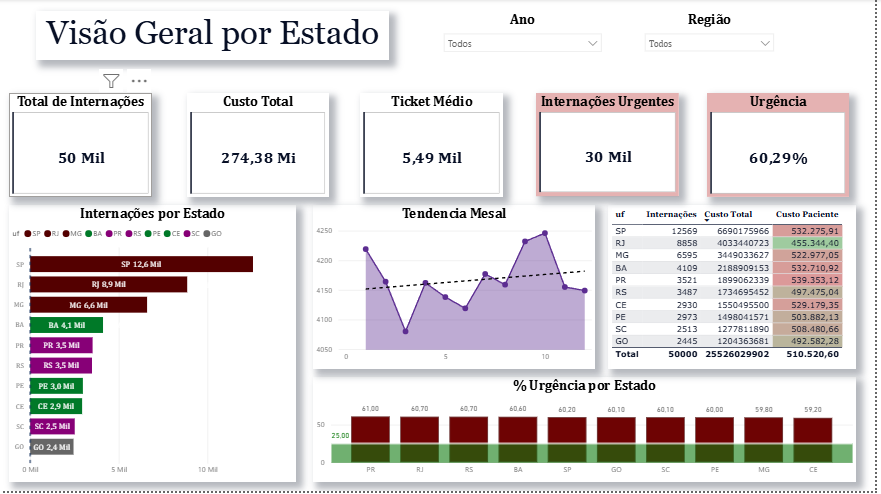

What the dashboard file says about the page in this screenshot:
{"tool":"powerbi","page":{"name":"Visão Geral","canvas":[1280,720],"ordinal":0},"visuals":[{"type":"textbox","box":[52.3,18,517.4,72.1],"z":0},{"type":"cardVisual","title":"Total de Internações","fields":{"Data":["Sum(mart_uf_br.total_internacoes)"]},"box":[13.2,137.6,209.3,152.2],"z":1000},{"type":"cardVisual","title":"Custo Total","fields":{"Data":["Sum(mart_uf_br.custo_total)"]},"box":[273.7,137.6,207.8,152.2],"z":2000},{"type":"cardVisual","title":"Ticket Médio","fields":{"Data":["mart_uf_br.Ticket Médio R$"]},"box":[526.8,137.6,209.3,152.2],"z":3000},{"type":"cardVisual","title":"Internações Urgentes","fields":{"Data":["Sum(mart_uf_br.internacoes_urgencia)"]},"box":[784.4,137.6,209.3,150.7],"z":4000},{"type":"barChart","title":"Internações por Estado","fields":{"Category":["mart_uf_br.uf"],"Series":["mart_uf_br.uf"],"Y":["Sum(mart_uf_br.total_internacoes)"]},"box":[13.2,301.5,420,405.4],"z":5000},{"type":"slicer","title":"Ano","fields":{"Values":["mart_uf_br.ano"]},"box":[640,18,250.6,72.1],"z":6000},{"type":"slicer","title":"Região","fields":{"Values":["mart_uf_br.regiao"]},"box":[933.9,18,209.1,72.1],"z":7000},{"type":"tableEx","title":"Internações porRegião","fields":{"Values":["mart_internacoes_uf.uf","Sum(mart_internacoes_uf.total_internacoes)","Sum(mart_internacoes_uf.custo_total)","mart_analise_uf.Custo por Paciente"]},"box":[889.8,301.5,362.9,240],"z":8000},{"type":"cardVisual","title":"Urgência","fields":{"Data":["mart_uf_br.% Urgência"]},"box":[1034.6,137.6,207.8,152.2],"z":10000},{"type":"clusteredColumnChart","title":"% Urgência por Estado","fields":{"Category":["mart_analise_uf.uf"],"Y":["Avg(mart_analise_uf.pct_urgencia)"]},"box":[458,553.2,794.6,153.7],"z":11000},{"type":"areaChart","title":"Tendencia Mesal","fields":{"Category":["mart_sazonalidade.mes"],"Y":["Sum(mart_sazonalidade.total_internacoes)"]},"box":[458,301.5,412.7,240],"z":11001}]}

Visuals, with their boxes in screenshot pixels (x1, y1, x2, y2), scaled from the page's 1280x720 canvas onto the 881x494 screenshot:
textbox: left=36, top=12, right=392, bottom=62
"Total de Internações" cardVisual: left=9, top=94, right=153, bottom=199
"Custo Total" cardVisual: left=188, top=94, right=331, bottom=199
"Ticket Médio" cardVisual: left=363, top=94, right=507, bottom=199
"Internações Urgentes" cardVisual: left=540, top=94, right=684, bottom=198
"Internações por Estado" barChart: left=9, top=207, right=298, bottom=485
"Ano" slicer: left=440, top=12, right=613, bottom=62
"Região" slicer: left=643, top=12, right=787, bottom=62
"Internações porRegião" tableEx: left=612, top=207, right=862, bottom=372
"Urgência" cardVisual: left=712, top=94, right=855, bottom=199
"% Urgência por Estado" clusteredColumnChart: left=315, top=380, right=862, bottom=485
"Tendencia Mesal" areaChart: left=315, top=207, right=599, bottom=372
